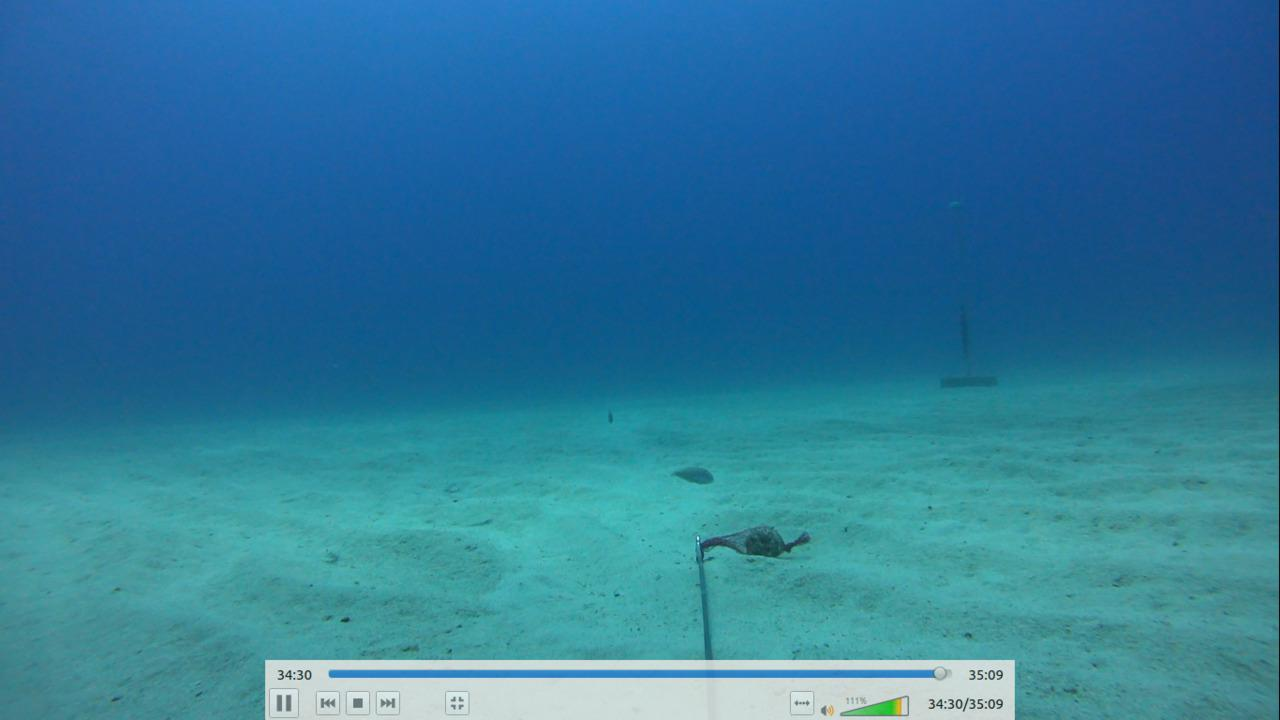raor: (659, 459, 726, 490)
